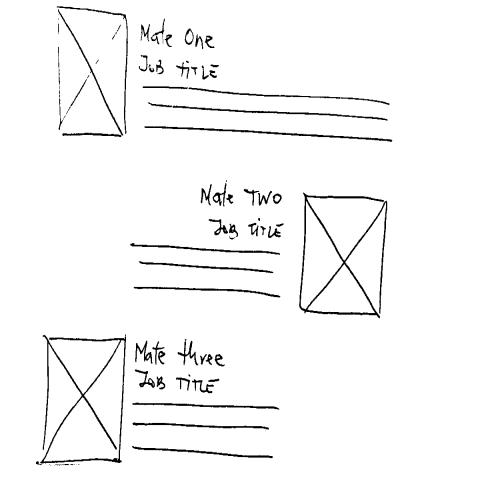Heading: (176, 374, 222, 399), (177, 59, 220, 84), (247, 219, 287, 236)
Image: (298, 189, 390, 319), (37, 335, 127, 465), (56, 4, 130, 139)
Paragraph: (141, 82, 395, 147), (129, 240, 285, 303), (129, 399, 281, 463)
